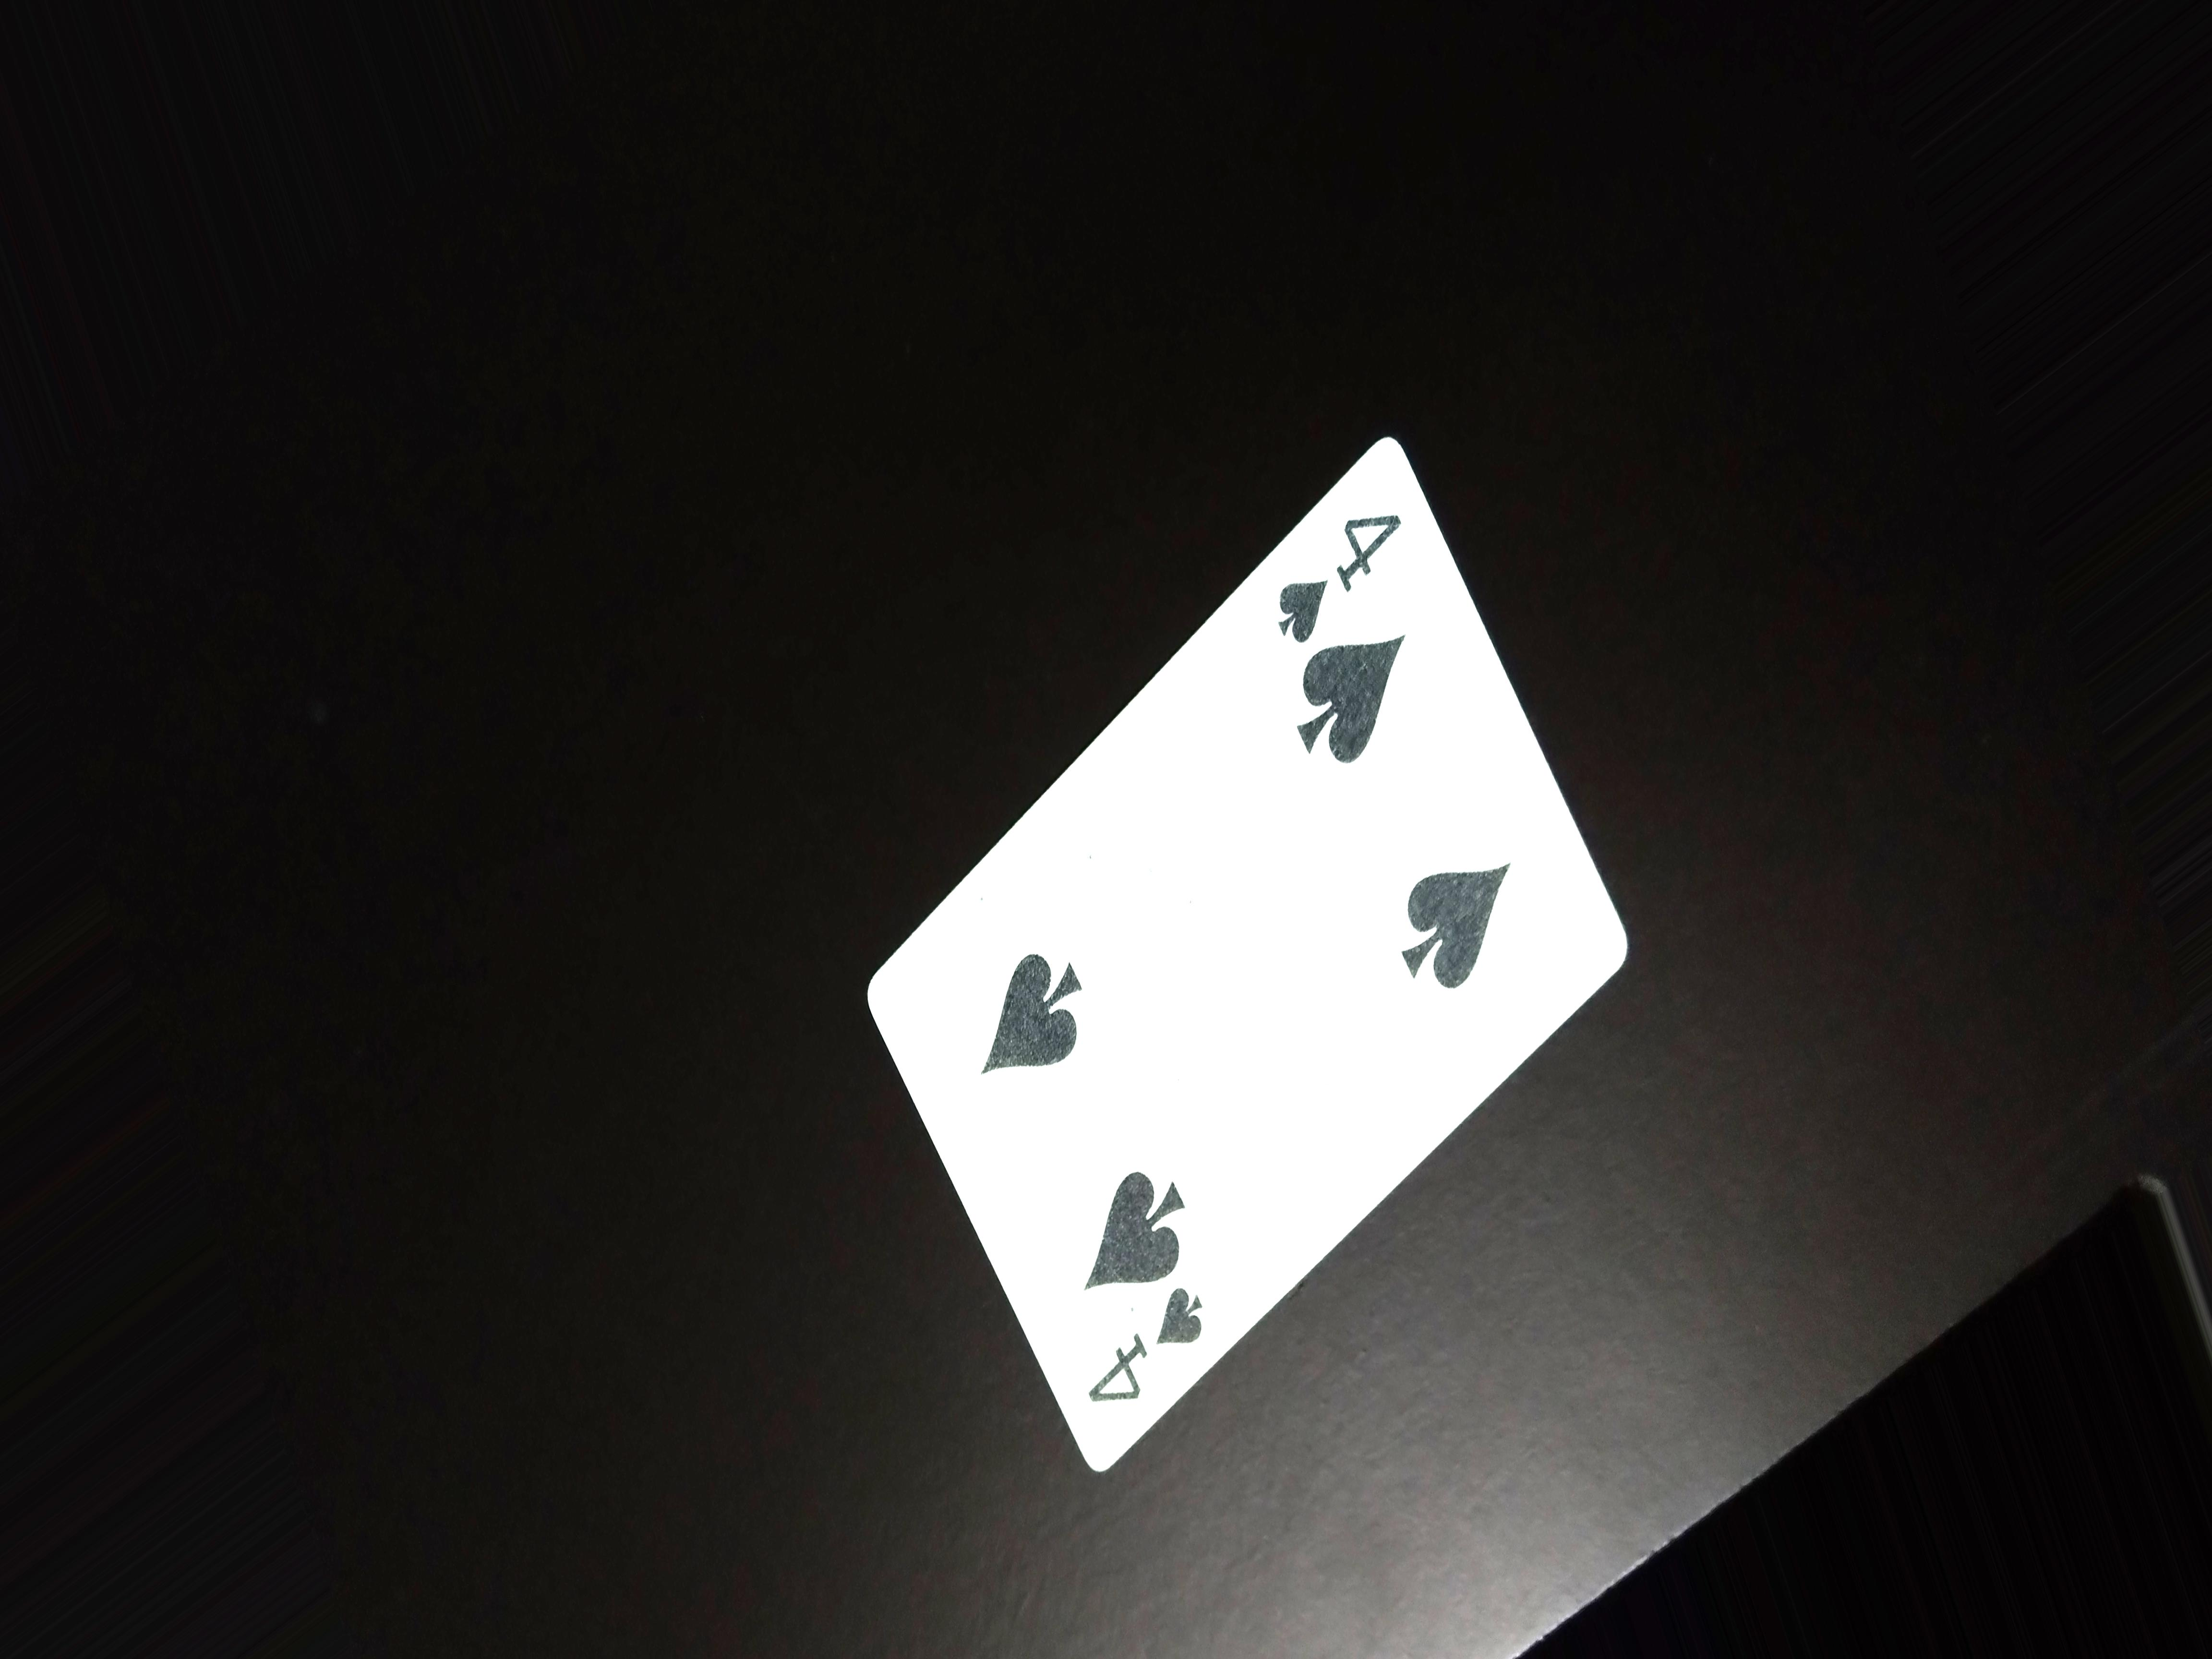4S: (1271, 505, 1399, 650)
